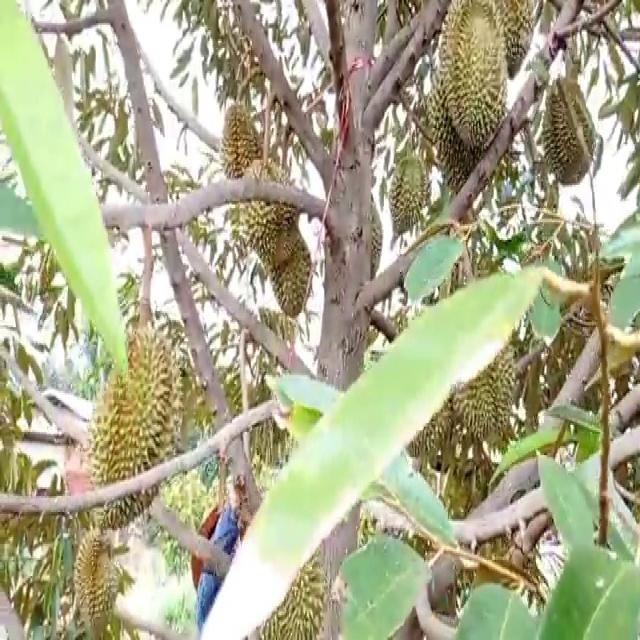durian: (76, 317, 185, 540), (441, 298, 520, 440), (437, 0, 510, 152), (248, 522, 329, 638), (540, 67, 603, 194), (237, 155, 297, 268), (68, 524, 124, 638), (262, 220, 316, 320), (483, 3, 534, 87), (213, 96, 259, 183), (385, 144, 427, 236)
